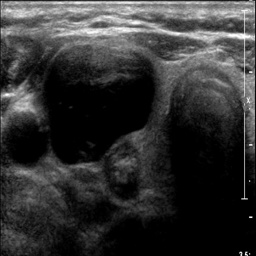mass: (105, 144, 141, 198)
